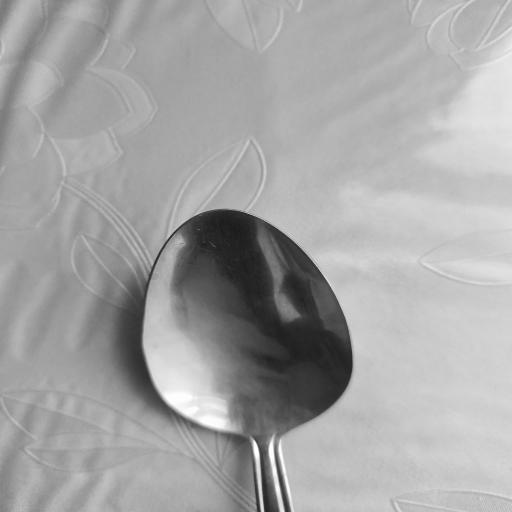spoon: (158, 210, 360, 512)
